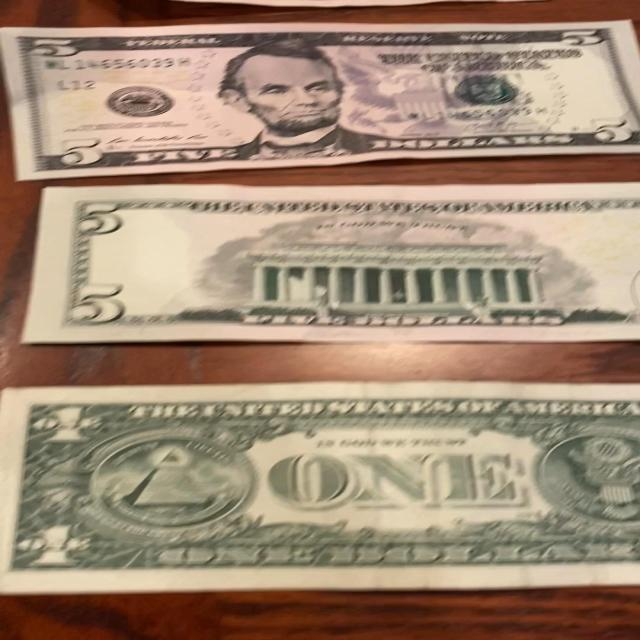1-Back: (0, 379, 640, 595)
5-Back: (12, 182, 640, 347)
5-Front: (0, 21, 640, 180)
